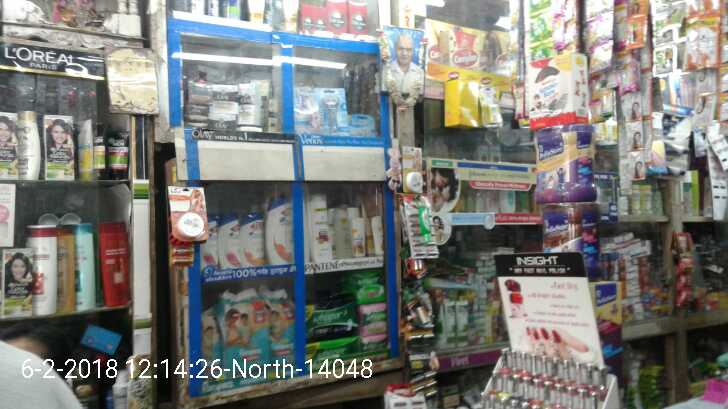venus: (322, 87, 346, 134), (297, 83, 319, 128), (349, 113, 375, 134)
